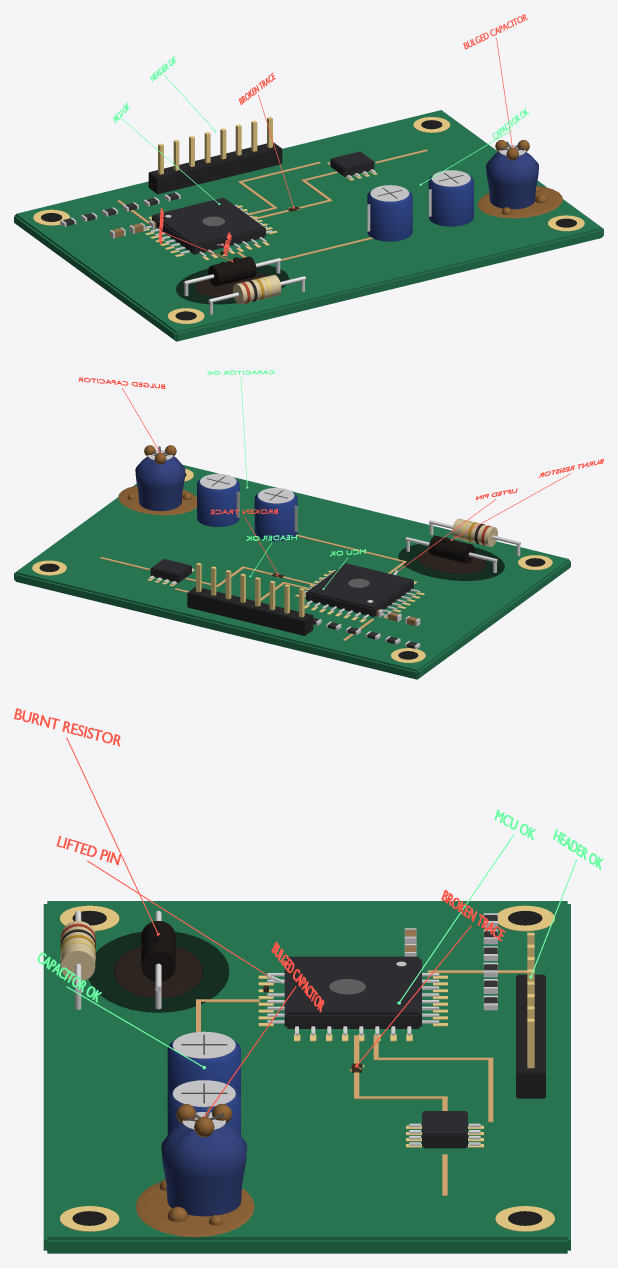
The model's file is pcb_fault.glb.
3 renders of one model, top to bottom at view 1: azimuth 30°, elevation 25°; view 2: azimuth 150°, elevation 25°; view 3: azimuth 270°, elevation 25°, orthographic. The views are drawn at different scales.
Parts seen in each view (by area): view 1: Board, U1_MCU, J1_Base, C3_BULGED, C2_OK, C1_OK, C3_Leak_Puddle, R7_Soot, R7_BURNT_Body, R8_OK_Body, U2_SOIC, R7_Scorch (+2 smaller); view 2: Board, U1_MCU, J1_Base, C3_BULGED, C2_OK, C1_OK, R7_Soot, R7_Scorch, C3_Leak_Puddle, R7_BURNT_Body, R8_OK_Body, U2_SOIC (+2 smaller); view 3: Board, U1_MCU, C3_BULGED, R7_Soot, J1_Base, C3_Leak_Puddle, R7_Scorch, C1_OK, U2_SOIC, R7_BURNT_Body, R8_OK_Body, C1_OK_Top (+6 smaller).
Part boxes in pixels (bbox=[...]): Board: bbox=[14, 110, 603, 341]; U1_MCU: bbox=[152, 197, 265, 254]; J1_Base: bbox=[148, 142, 282, 194]; C3_BULGED: bbox=[486, 149, 538, 209]; C2_OK: bbox=[428, 175, 473, 226]; C1_OK: bbox=[367, 189, 412, 241]; C3_Leak_Puddle: bbox=[477, 186, 562, 218]; R7_Soot: bbox=[176, 265, 288, 304]; R7_BURNT_Body: bbox=[208, 256, 256, 286]; R8_OK_Body: bbox=[233, 274, 281, 304]; U2_SOIC: bbox=[330, 151, 374, 176]; R7_Scorch: bbox=[195, 272, 266, 296]; Board: bbox=[14, 465, 570, 679]; U1_MCU: bbox=[306, 563, 413, 616]; J1_Base: bbox=[187, 587, 313, 635]; C3_BULGED: bbox=[135, 454, 185, 511]; C2_OK: bbox=[197, 478, 239, 526]; C1_OK: bbox=[254, 492, 297, 541]; R7_Soot: bbox=[398, 544, 504, 580]; R7_Scorch: bbox=[417, 550, 486, 573]; C3_Leak_Puddle: bbox=[118, 485, 196, 515]; R7_BURNT_Body: bbox=[428, 535, 474, 563]; R8_OK_Body: bbox=[452, 518, 497, 546]; U2_SOIC: bbox=[150, 559, 191, 582]; Board: bbox=[43, 901, 570, 1253]; U1_MCU: bbox=[284, 956, 421, 1028]; C3_BULGED: bbox=[161, 1123, 247, 1216]; R7_Soot: bbox=[88, 931, 229, 1012]; J1_Base: bbox=[516, 974, 545, 1098]; C3_Leak_Puddle: bbox=[135, 1182, 254, 1237]; R7_Scorch: bbox=[113, 946, 202, 998]; C1_OK: bbox=[167, 1039, 240, 1096]; U2_SOIC: bbox=[422, 1111, 467, 1148]; R7_BURNT_Body: bbox=[141, 921, 175, 981]; R8_OK_Body: bbox=[61, 921, 95, 981]; C1_OK_Top: bbox=[172, 1031, 235, 1058].
Size of the model in its own units: 0.0756 by 0.0249 by 0.0515.
